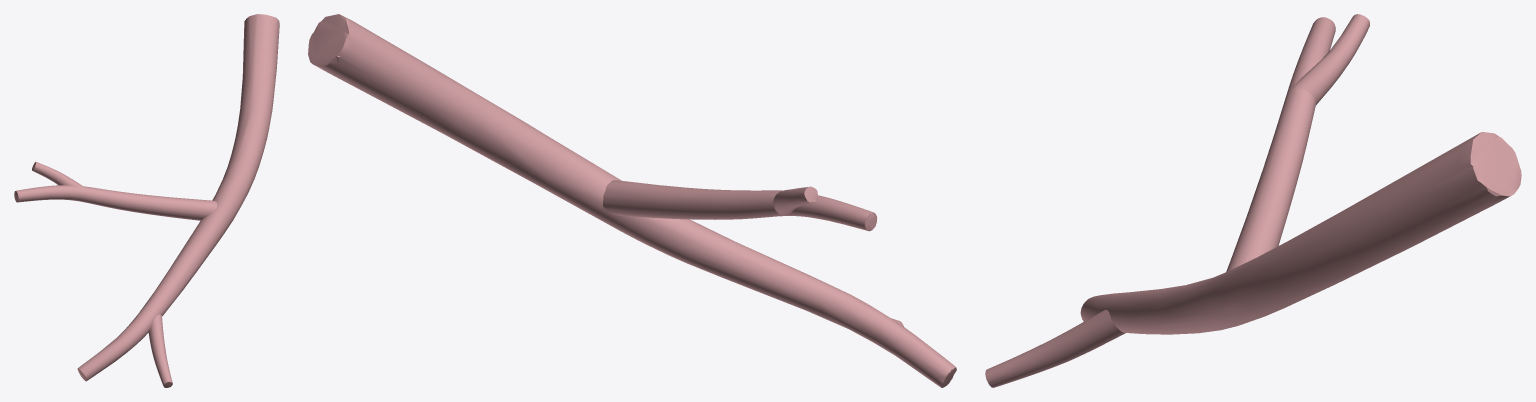
File: fma68215_cx155.glb
3 renders of one model, left to right at view 1: azimuth 30°, elevation 25°; view 2: azimuth 150°, elevation 25°; view 3: azimuth 270°, elevation 25°, orthographic. The views are drawn at different scales.
Visible parts, largest first — view 1: FMA68215_CX155; view 2: FMA68215_CX155; view 3: FMA68215_CX155.
Part boxes in pixels (bbox=[...]): FMA68215_CX155: bbox=[14, 14, 279, 387]; FMA68215_CX155: bbox=[308, 14, 956, 387]; FMA68215_CX155: bbox=[985, 14, 1521, 387].
Bounding box in the file's own units: 0.0881 × 0.0645 × 0.0678.
